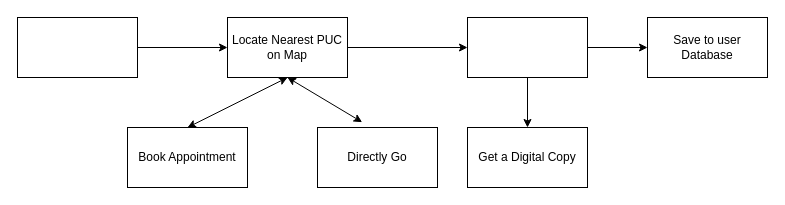
The diagram is 785 pixels wide and 205 high, and some of its shapes have lost their labels. Here are the shapes that lost their labels. From the top down, the box of each, then its label:
(16, 16, 138, 78): Check PUC
(466, 16, 588, 78): Get PUC
